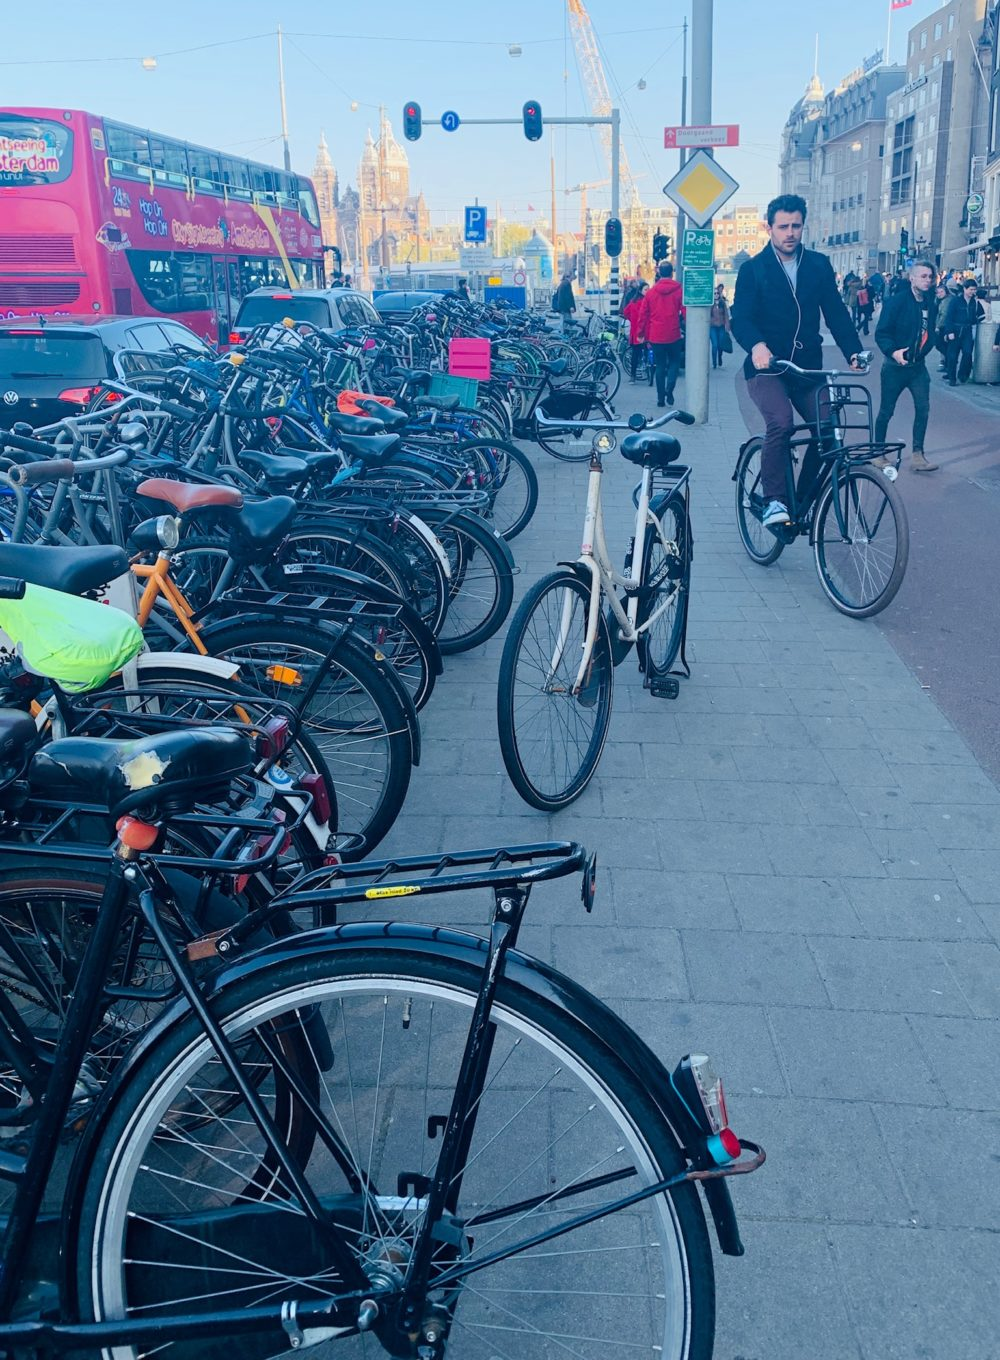commuter: (729, 199, 916, 629)
